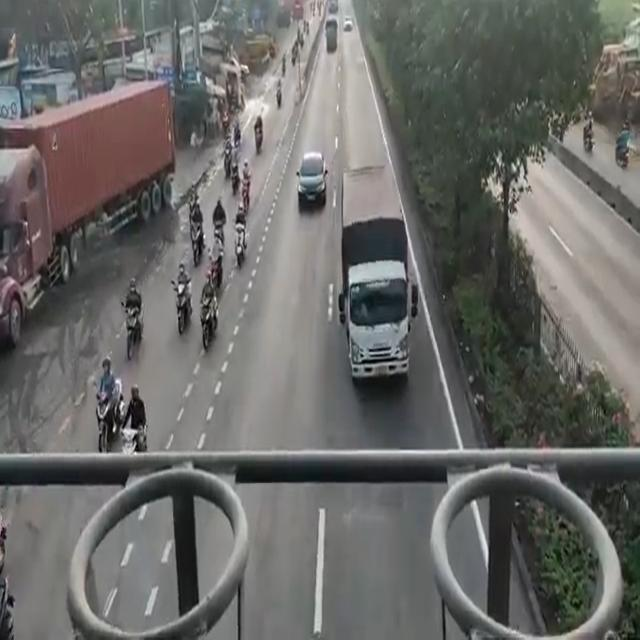car: (296, 147, 326, 206)
motorbike: (92, 368, 114, 453), (196, 291, 223, 356), (187, 198, 205, 272), (228, 220, 252, 273), (174, 271, 193, 336), (122, 295, 142, 356), (116, 414, 146, 454), (239, 170, 255, 215), (214, 204, 229, 248), (208, 256, 223, 284)
truck: (0, 76, 183, 269), (339, 166, 414, 384)
